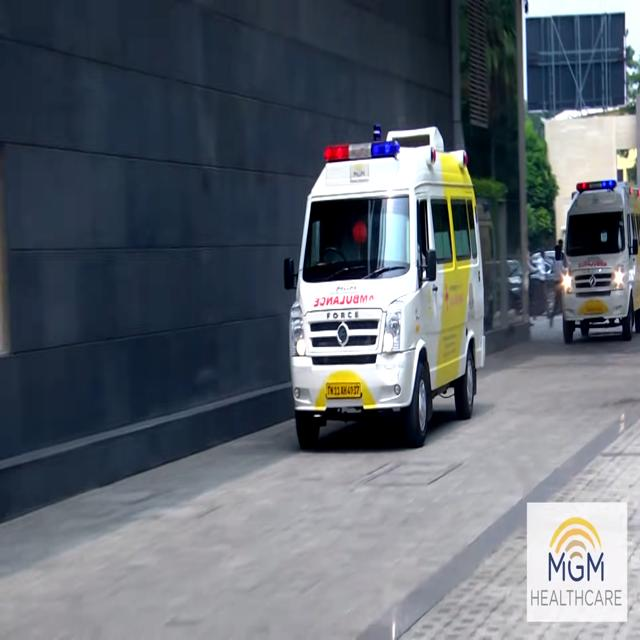emergency-vehicles: (273, 123, 497, 439), (538, 174, 640, 346)
